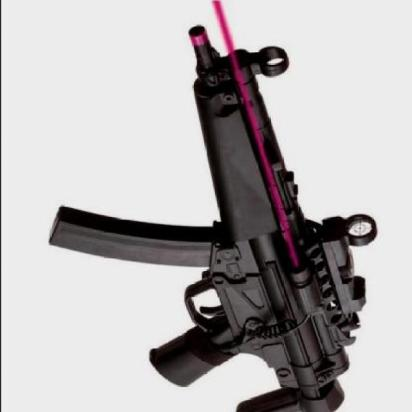Gun: (51, 18, 398, 406)
